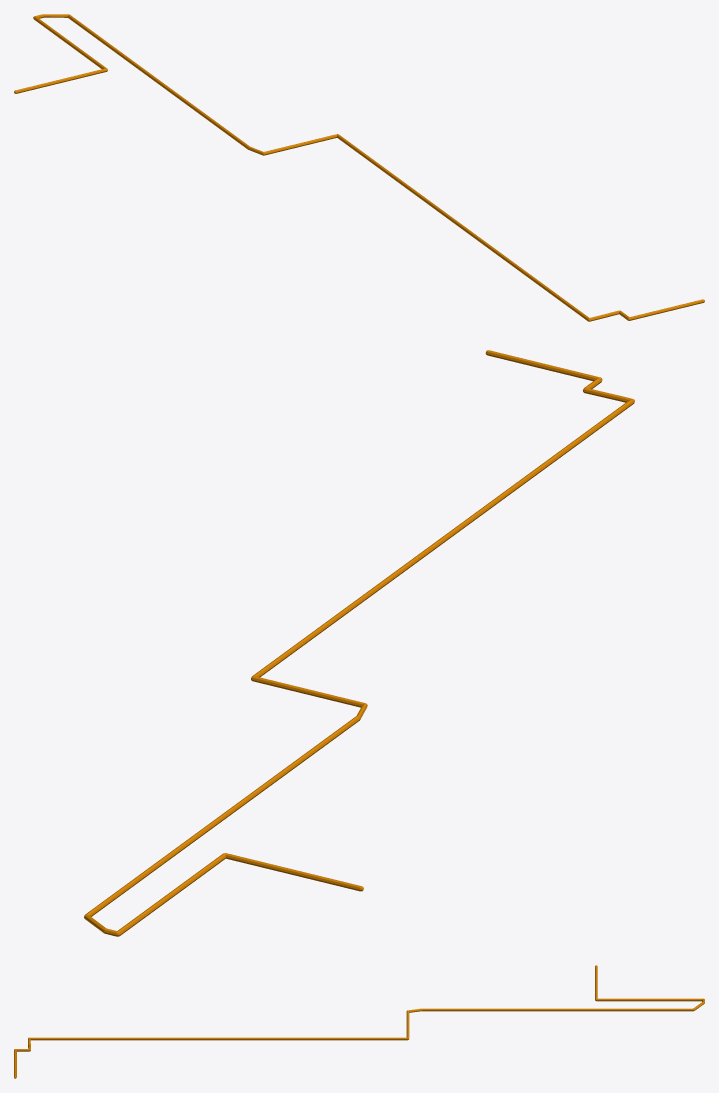
The picture shows the model from 3 angles, top to bottom: view 1: azimuth 30°, elevation 25°; view 2: azimuth 150°, elevation 25°; view 3: azimuth 270°, elevation 25°; orthographic projection. The views are drawn at different scales.
Bounding box in the file's own units: 1853 × 20 × 4836.
